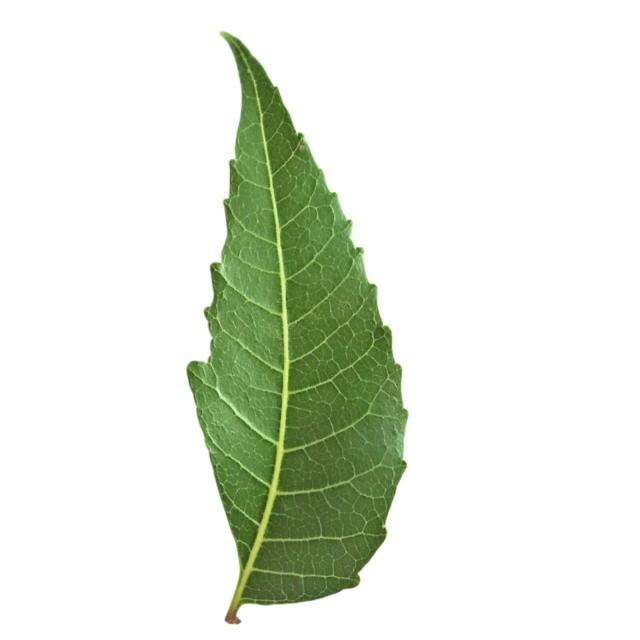Medicinal-Neem: (186, 29, 409, 624)
